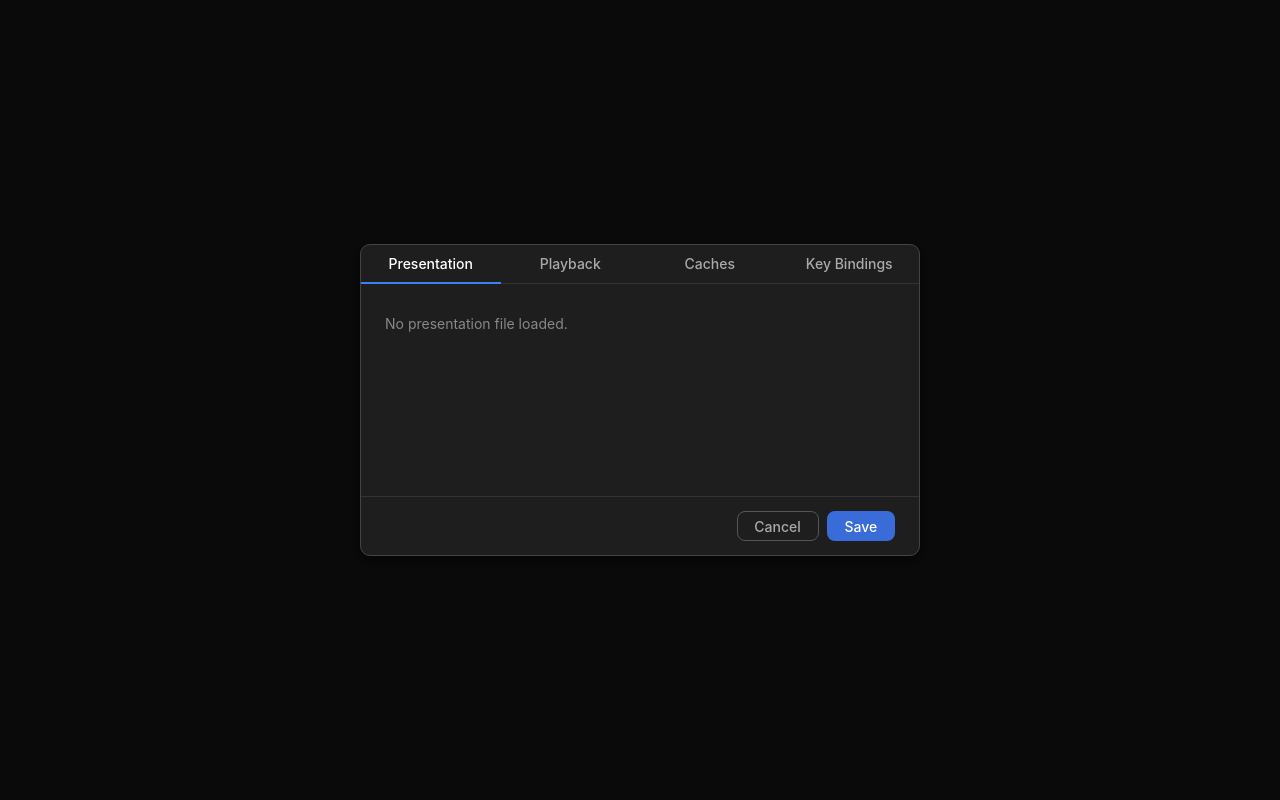
Scenario: SettingsDialog — Caches tab › shows the Caches tab with cache stat labels and limit inputs
Click the button "Caches": (710, 264) left=640, top=244, right=780, bottom=284
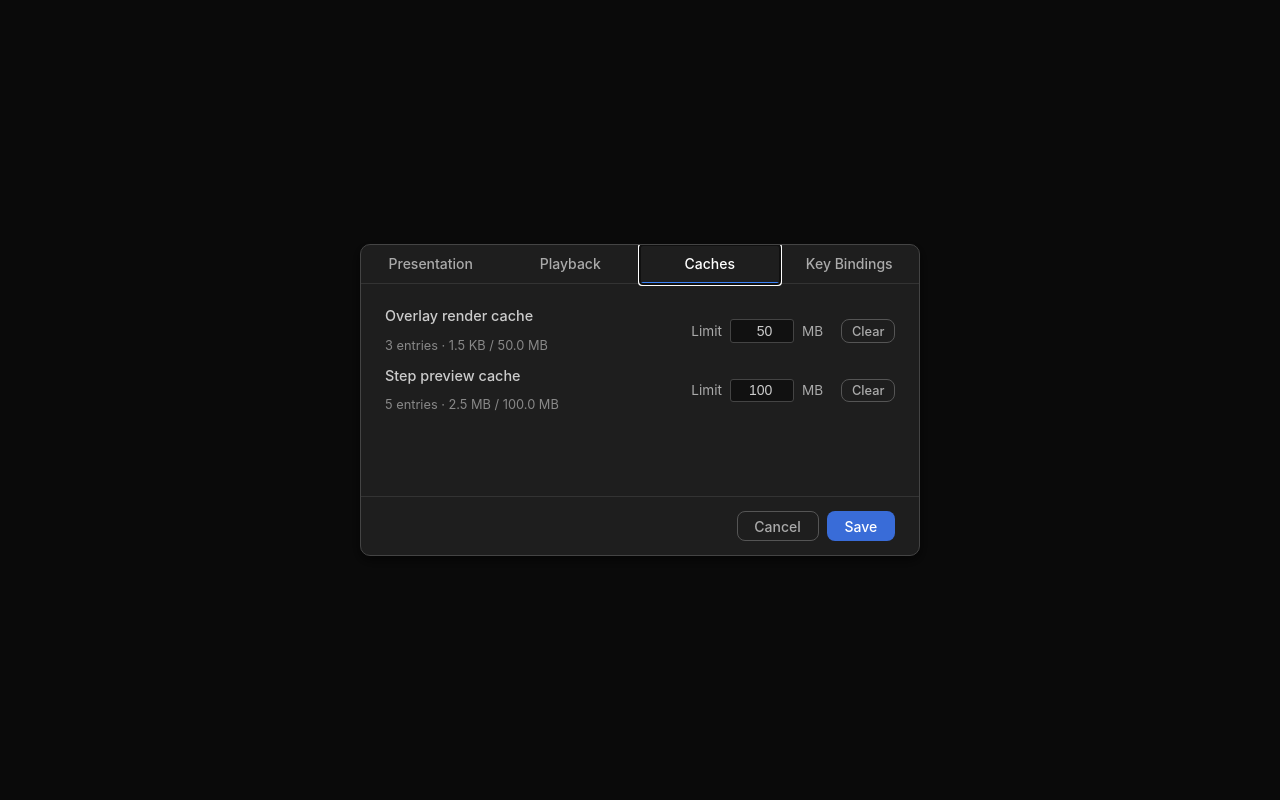
Expected: the text "Overlay render cache" is shown, left=385, top=307, right=533, bottom=324
Expected: the text "Step preview cache" is shown, left=385, top=366, right=520, bottom=384
Expected: the number field named "Overlay cache max size in MB" holds "50", left=730, top=319, right=794, bottom=343
